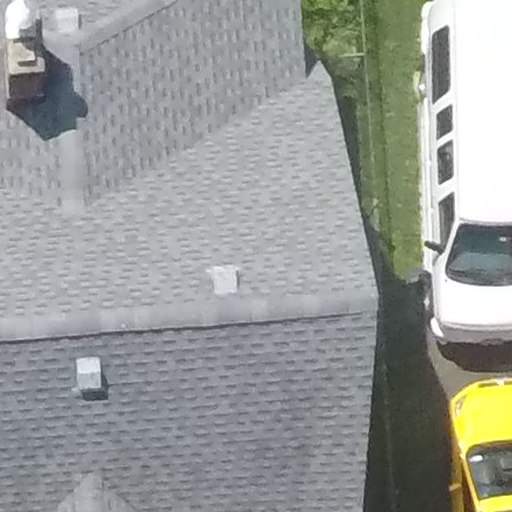car: (412, 1, 512, 361), (447, 366, 511, 512)
